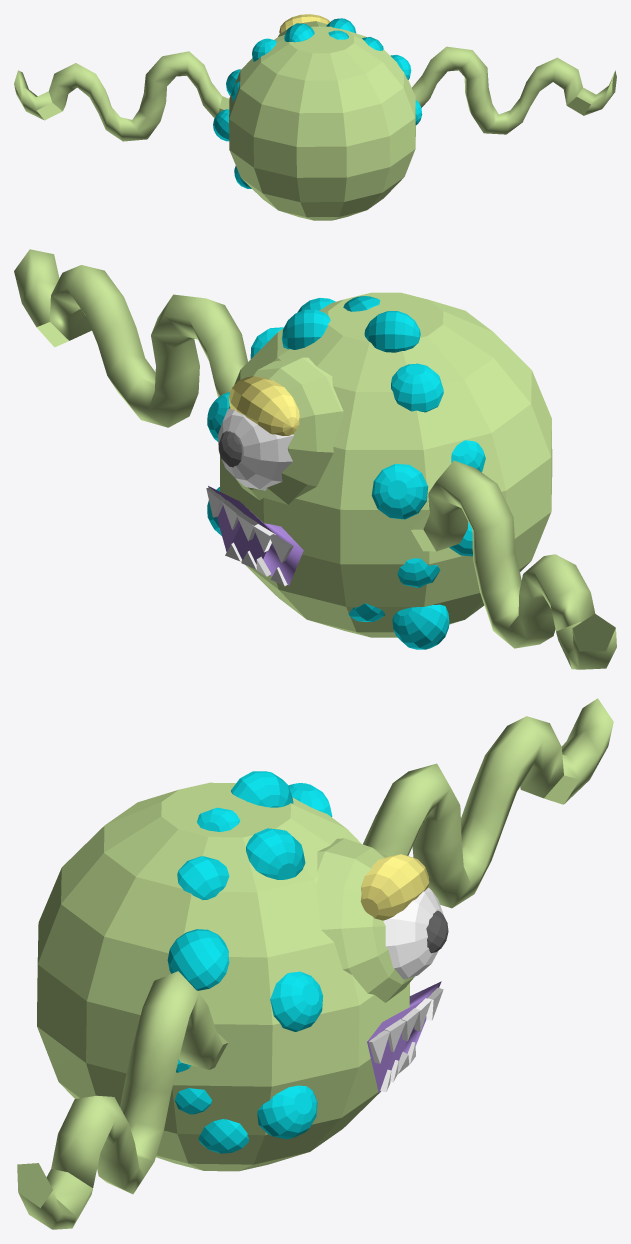
The model's file is alien_1#0000.fbx.
3 views of the same model, one above another, from view 1: azimuth 30°, elevation 25°; view 2: azimuth 150°, elevation 25°; view 3: azimuth 270°, elevation 25° (orthographic). The views are drawn at different scales.
Visible parts, largest first — view 1: model; view 2: model; view 3: model.
Boxes of the visible parts, x1,y1,x2,y2 form: model: (14, 14, 616, 220); model: (14, 249, 616, 669); model: (17, 698, 613, 1229).
Bounding box in the file's own units: 83.29 × 31.13 × 45.72.
